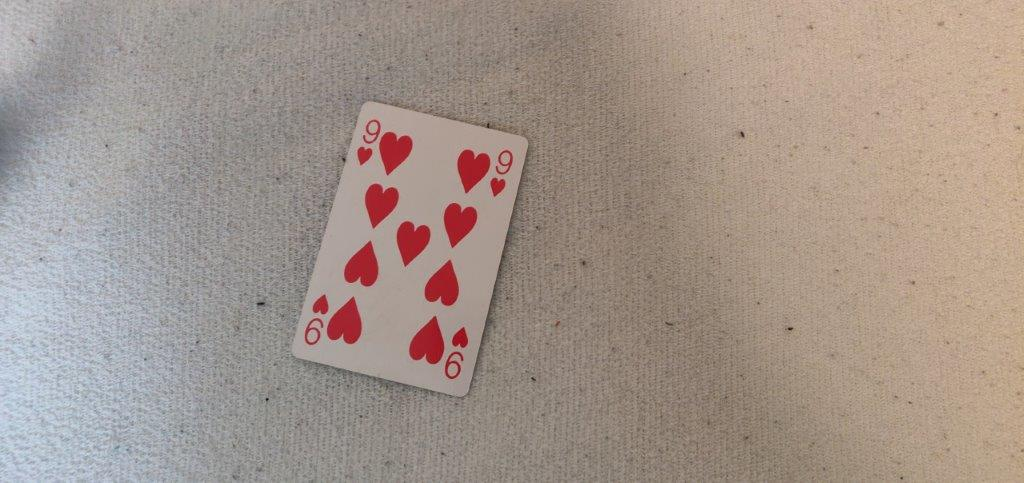9H: (353, 109, 384, 170), (490, 142, 520, 199)
